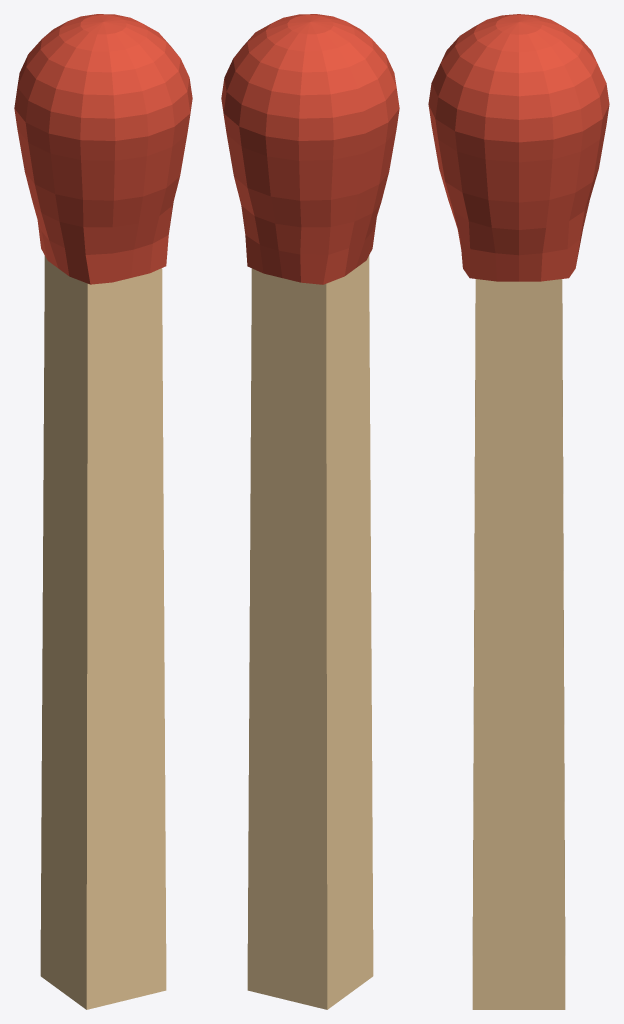
File: Pointer_03_Match.fbx
The picture shows the model from 3 angles, left to right: view 1: azimuth 30°, elevation 25°; view 2: azimuth 150°, elevation 25°; view 3: azimuth 270°, elevation 25°; orthographic projection.
Parts seen in each view (by area): view 1: Pointer_03_Match; view 2: Pointer_03_Match; view 3: Pointer_03_Match.
Boxes of the visible parts, x1,y1,x2,y2 form: Pointer_03_Match: (14,14,192,1009); Pointer_03_Match: (221,14,399,1009); Pointer_03_Match: (428,14,609,1009).
Size of the model in its own units: 0.1442 by 0.8506 by 0.1442.
